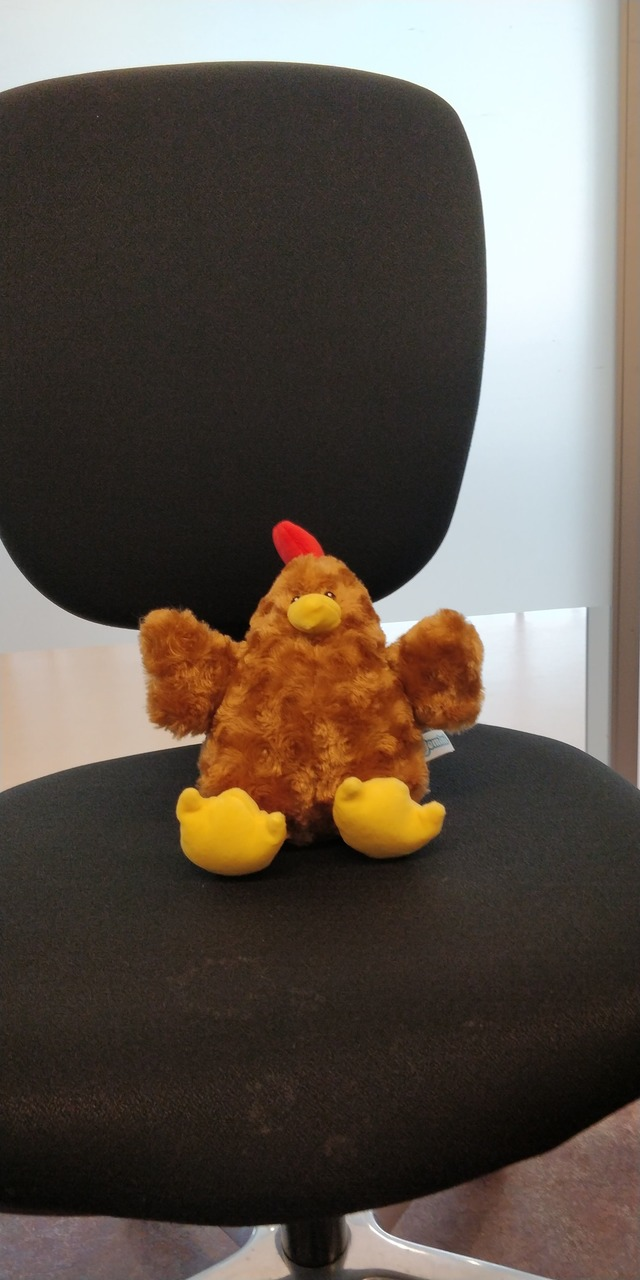fakeChicken: (140, 522, 488, 879)
